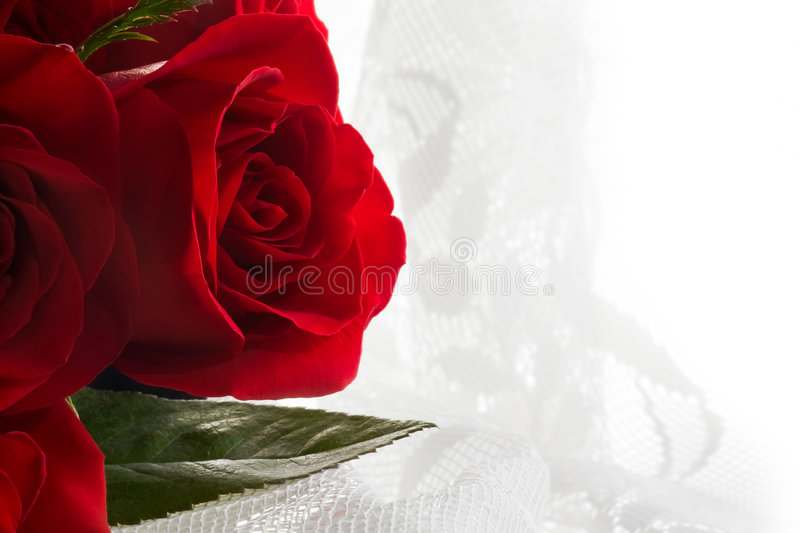RedRose: (100, 4, 415, 396)
